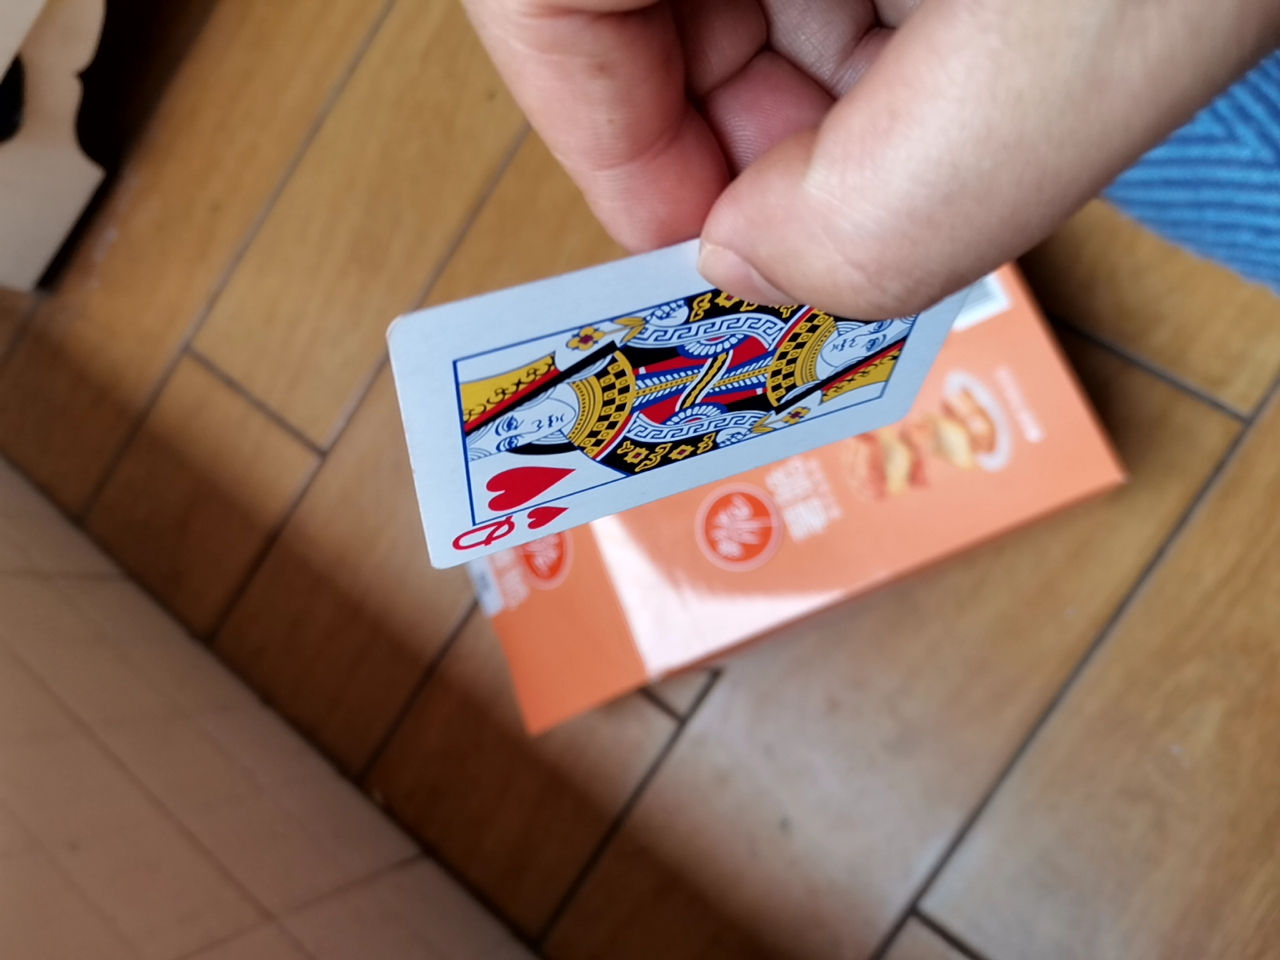hx q: (390, 218, 995, 653)
